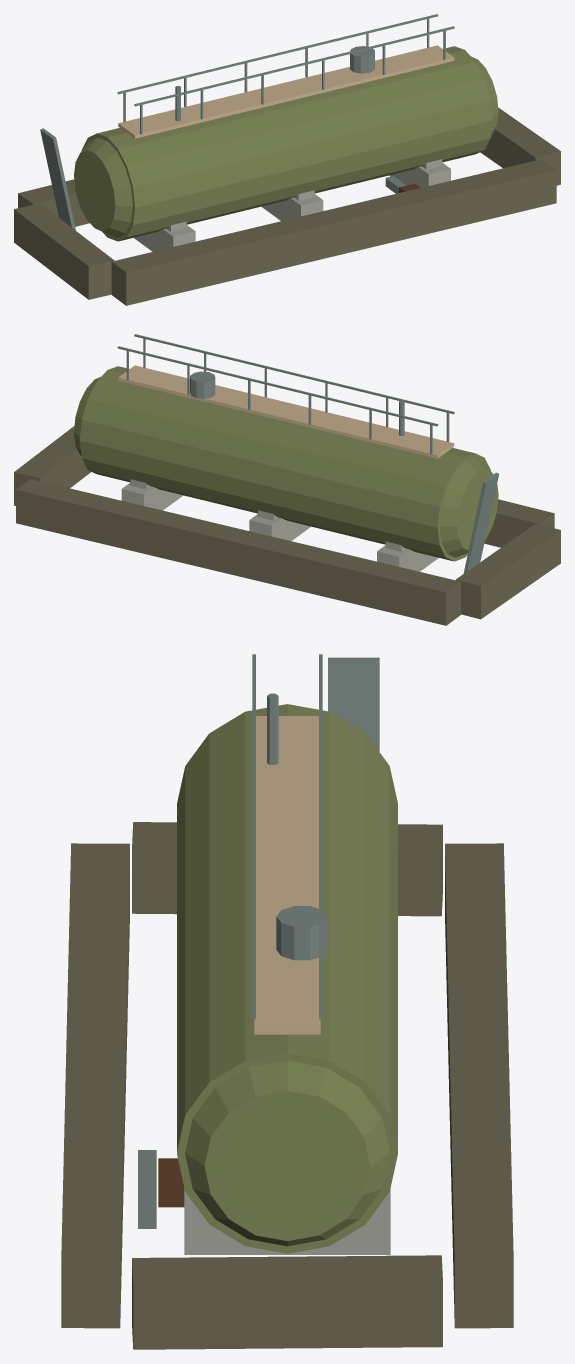
The model's file is SM_TanqueCombustible_v4_LOD0.fbx.
3 renders of one model, top to bottom at view 1: azimuth 30°, elevation 25°; view 2: azimuth 150°, elevation 25°; view 3: azimuth 270°, elevation 25°, orthographic. The views are drawn at different scales.
Visible parts, largest first — view 1: SM_tanque_combustible_v4_LOD0; view 2: SM_tanque_combustible_v4_LOD0; view 3: SM_tanque_combustible_v4_LOD0.
Boxes of the visible parts, x1=… form: SM_tanque_combustible_v4_LOD0: x1=14, y1=14, x2=560, y2=305; SM_tanque_combustible_v4_LOD0: x1=14, y1=334, x2=560, y2=625; SM_tanque_combustible_v4_LOD0: x1=61, y1=654, x2=513, y2=1349.
Bounding box in the file's own units: 14.78 × 4.7 × 6.13.
